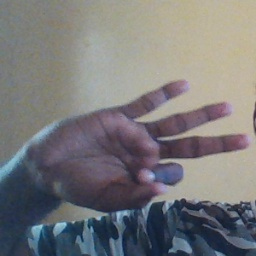K: (23, 77, 249, 213)
